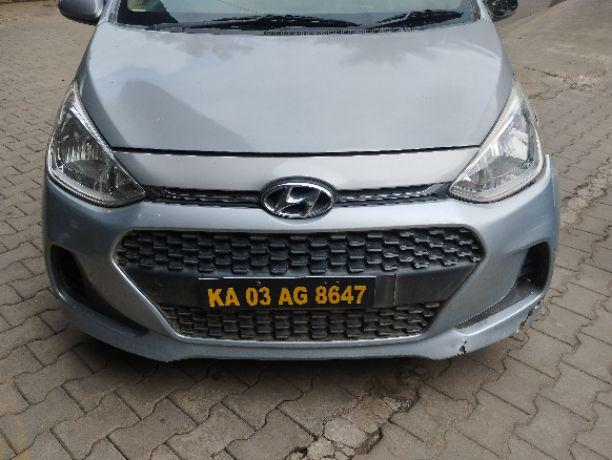license_plate: (41, 0, 561, 364), (196, 275, 377, 311)
